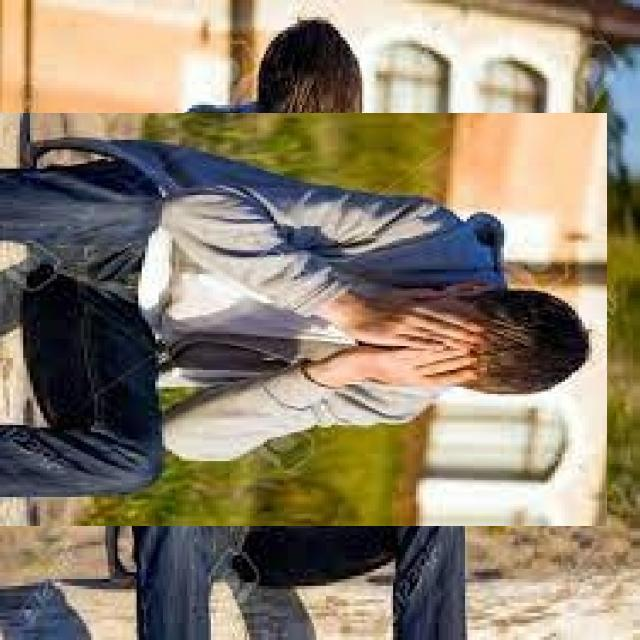NotFall: (0, 118, 640, 564)
